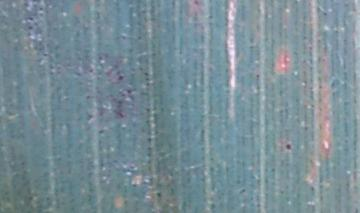tarspot: (284, 143, 293, 151), (36, 4, 44, 13), (238, 187, 246, 195), (116, 75, 125, 82), (154, 191, 163, 198), (25, 25, 34, 32), (96, 128, 104, 135), (26, 14, 34, 21), (353, 205, 360, 213), (88, 66, 93, 75), (254, 73, 261, 79), (310, 184, 314, 193), (321, 11, 328, 16)
